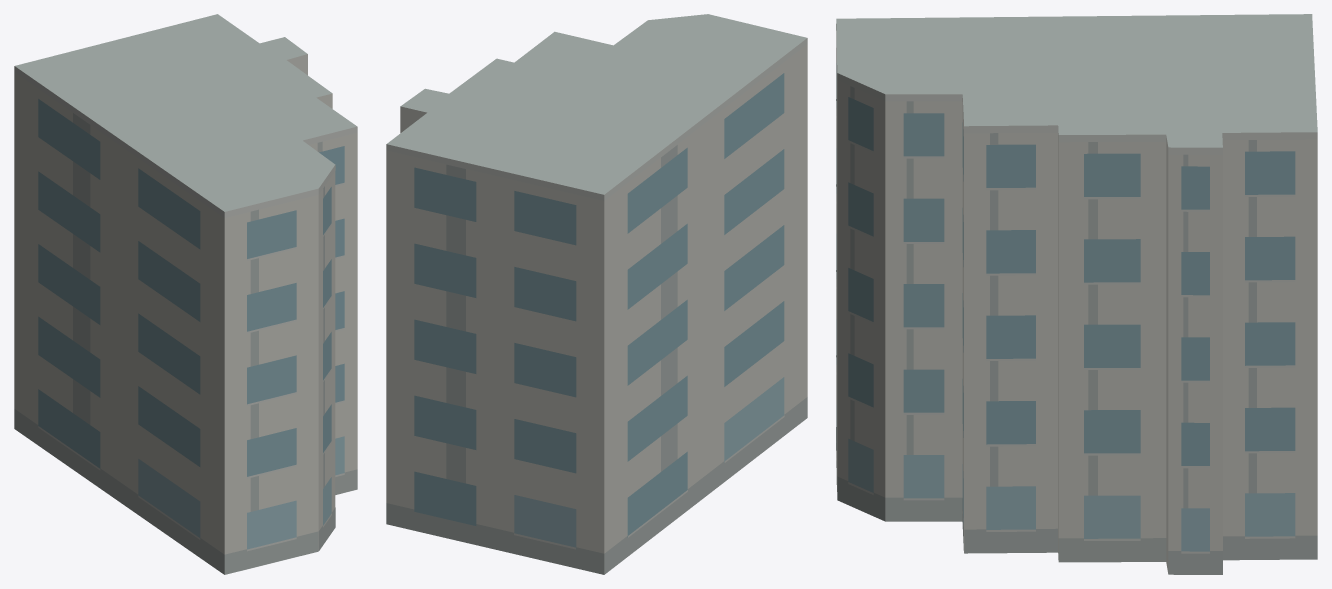
Rendered from survey-upis-32989131.glb.
3 views of the same model, side by side, from view 1: azimuth 30°, elevation 25°; view 2: azimuth 150°, elevation 25°; view 3: azimuth 270°, elevation 25° (orthographic). The views are drawn at different scales.
Parts seen in each view (by area): view 1: survey-upis-32989131.tmp; view 2: survey-upis-32989131.tmp; view 3: survey-upis-32989131.tmp.
Part boxes in pixels (x1,y1,x2,y2): survey-upis-32989131.tmp: [14, 14, 357, 574]; survey-upis-32989131.tmp: [386, 14, 807, 574]; survey-upis-32989131.tmp: [836, 14, 1317, 574].
Size of the model in its own units: 9.67 by 14.4 by 14.72.
